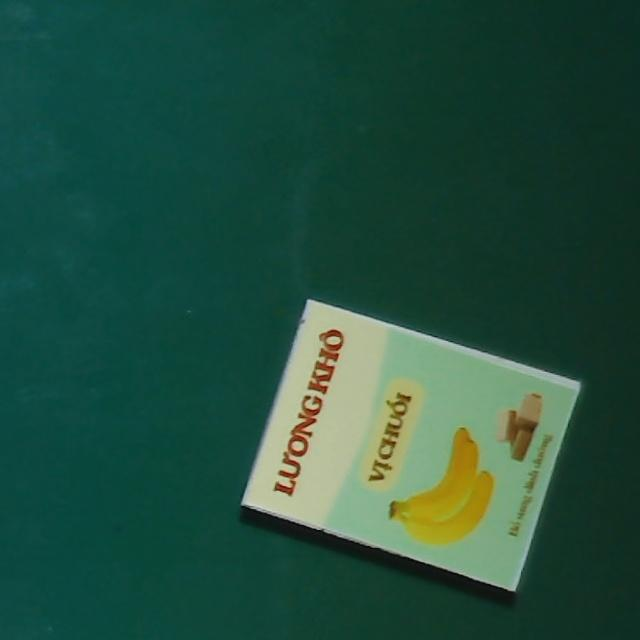chuoi: (240, 298, 580, 592)
